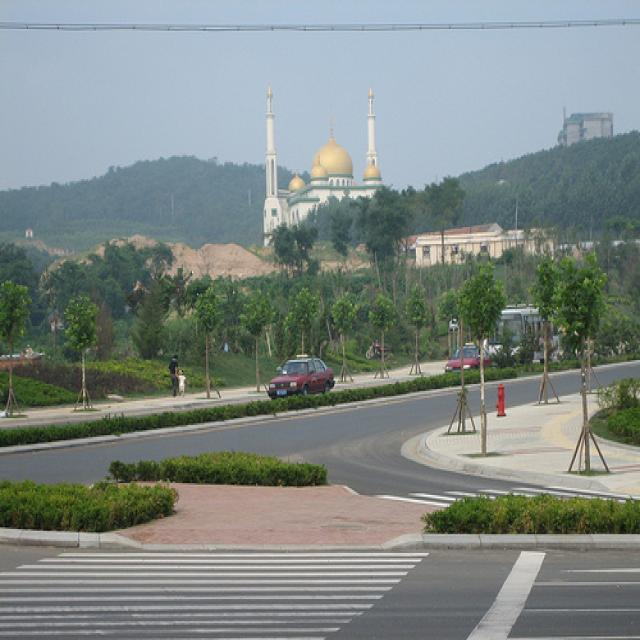bus: (485, 303, 562, 370)
car: (266, 356, 336, 400), (444, 341, 491, 375)
motorbike: (365, 339, 392, 361)
person: (169, 354, 180, 399), (176, 368, 188, 397)
